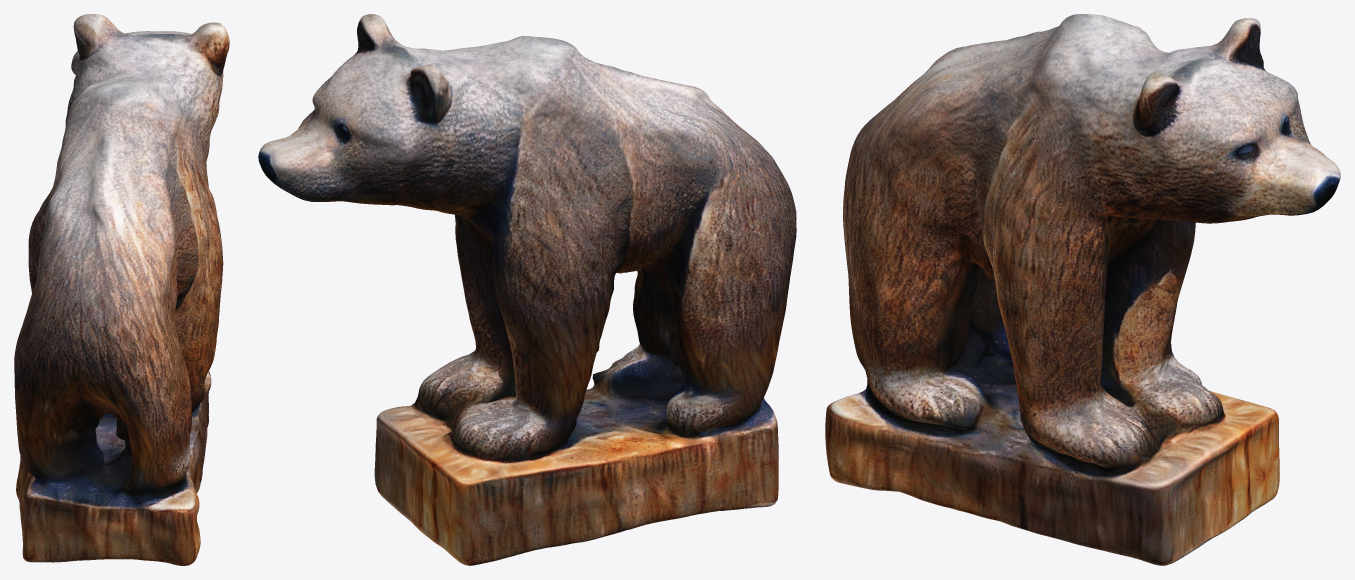
File: asset.glb
3 views of the same model, side by side, from view 1: azimuth 30°, elevation 25°; view 2: azimuth 150°, elevation 25°; view 3: azimuth 270°, elevation 25° (orthographic). The views are drawn at different scales.
Visible parts, largest first — view 1: default-material; view 2: default-material; view 3: default-material.
Boxes of the visible parts, <box> form: default-material: <box>14,14,229,565</box>; default-material: <box>258,14,796,565</box>; default-material: <box>825,14,1340,565</box>.
Bounding box in the file's own units: 1.16 × 1.51 × 1.38.
1 material, 1 textured.
